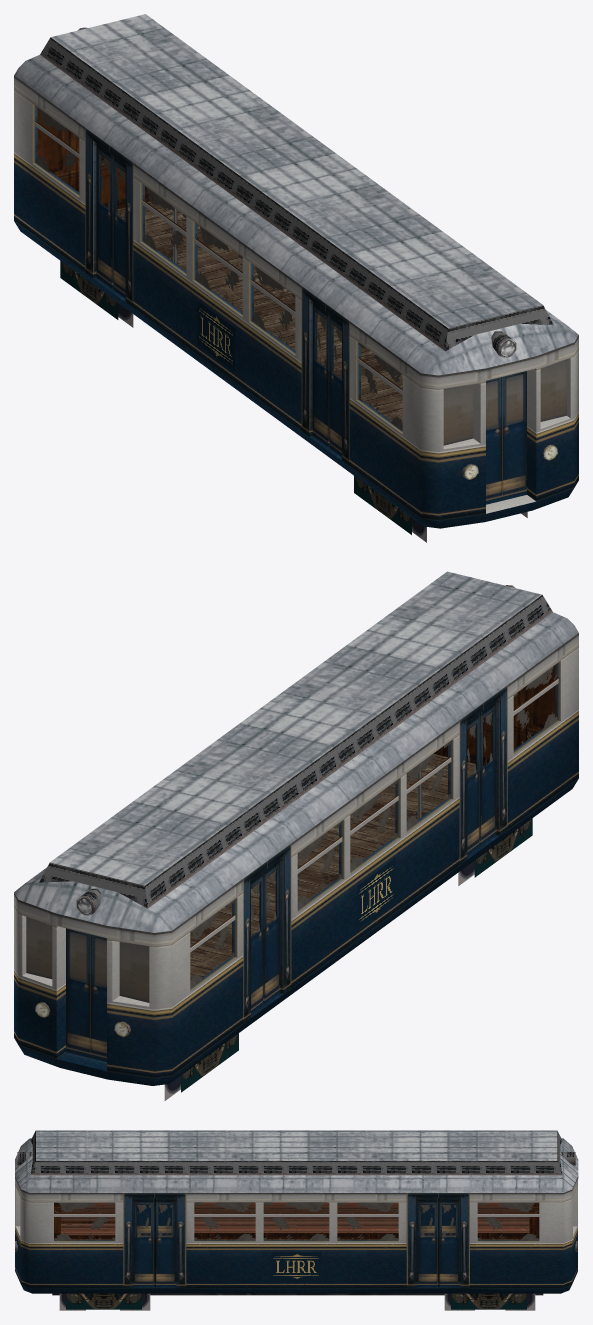
Rendered from train.FBX.
3 renders of one model, top to bottom at view 1: azimuth 30°, elevation 25°; view 2: azimuth 150°, elevation 25°; view 3: azimuth 270°, elevation 25°, orthographic. The views are drawn at different scales.
Visible parts, largest first — view 1: metroLOD0; view 2: metroLOD0; view 3: metroLOD0.
Part boxes in pixels (x1,y1,x2,y2): metroLOD0: (14,14,578,542); metroLOD0: (14,571,578,1100); metroLOD0: (15,1130,578,1310).
Size of what is drawn, in the model's own units: 1.03 by 1.39 by 4.77.
